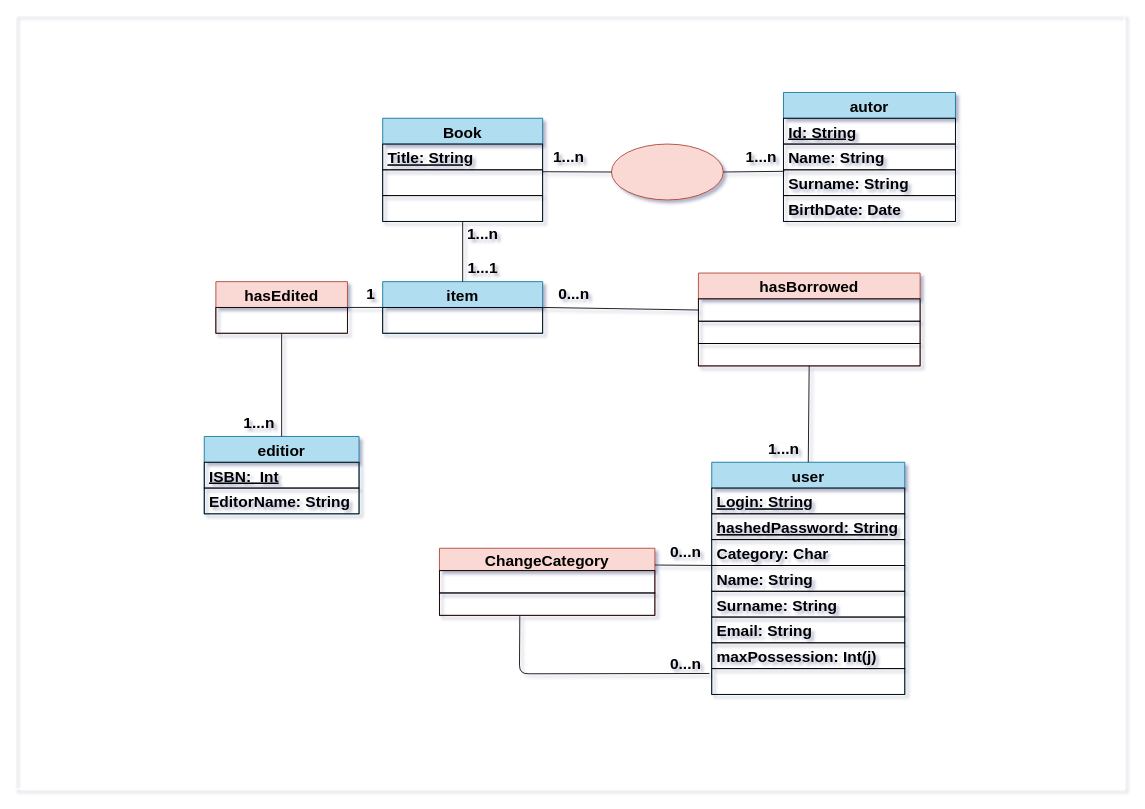
This 1145x809 diagram has some shape labels left out. The shapes that lost their labels are listed below. From the top down, each one's centre as x and y in pixels, then its label:
At point 462,182: "FirstEditionYear: Int".
At point 667,171: "hasWriten".
At point 462,208: "Description: String".
At point 281,320: "Year: Int".
At point 462,320: "Id: Int".
At point 809,309: "BoorowingDate: mm/dd/yy".
At point 809,332: "LimitDate: mm/dd/yy".
At point 809,354: "GiveBackDate: mm/dd/yy".
At point 547,581: "changingDate: mm/dd/yy".
At point 547,603: "newUserCategory: Char".
At point 808,681: "maxBorrowing: Int".
